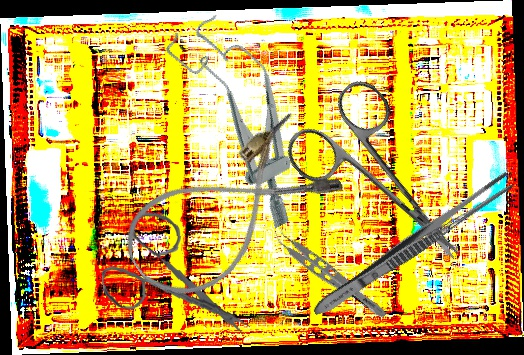Cannula: (110, 107, 349, 316)
Dressing Forceps: (308, 168, 517, 323)
Iris Scissors: (277, 72, 496, 298), (96, 204, 251, 348)
Speculum: (161, 4, 332, 236)
Tissue Forceps: (267, 223, 395, 322)
